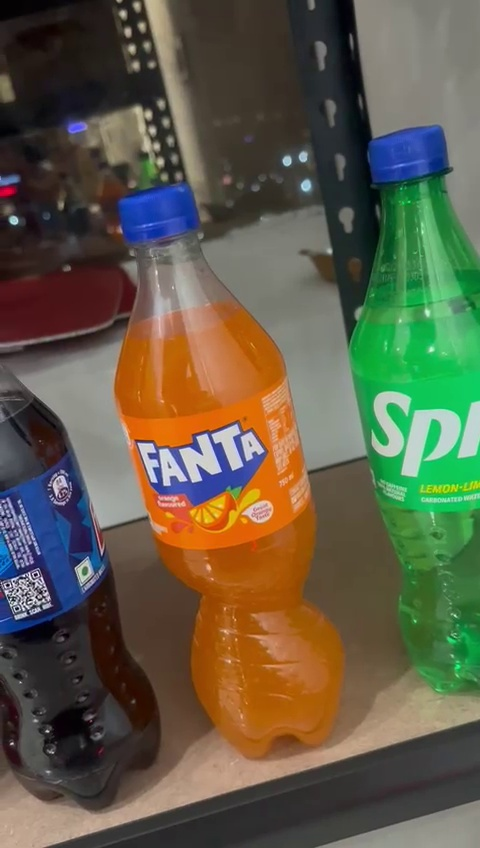Fanta: (108, 185, 364, 749)
